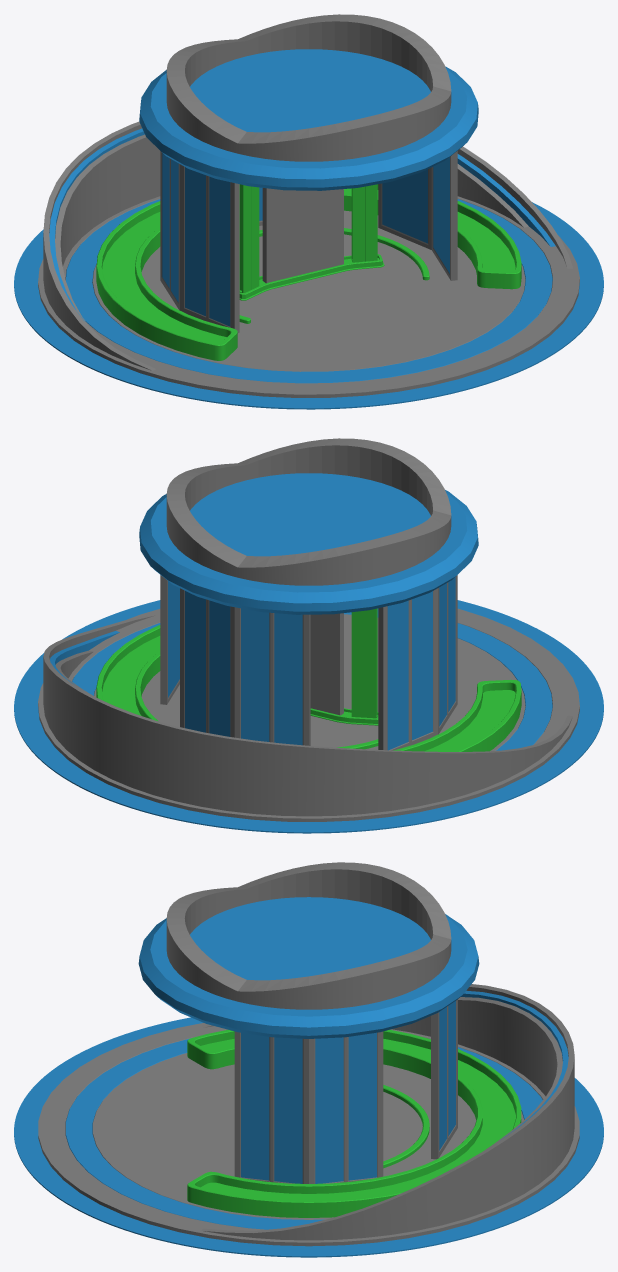
File: Building_01.fbx
3 renders of one model, top to bottom at view 1: azimuth 30°, elevation 25°; view 2: azimuth 150°, elevation 25°; view 3: azimuth 270°, elevation 25°, orthographic.
Parts seen in each view (by area): view 1: Box001; view 2: Box001; view 3: Box001.
Part boxes in pixels (x1=…): Box001: x1=14, y1=14, x2=603, y2=409; Box001: x1=14, y1=438, x2=603, y2=833; Box001: x1=14, y1=862, x2=603, y2=1257.
Size of the model in its own units: 455 by 182 by 455.
